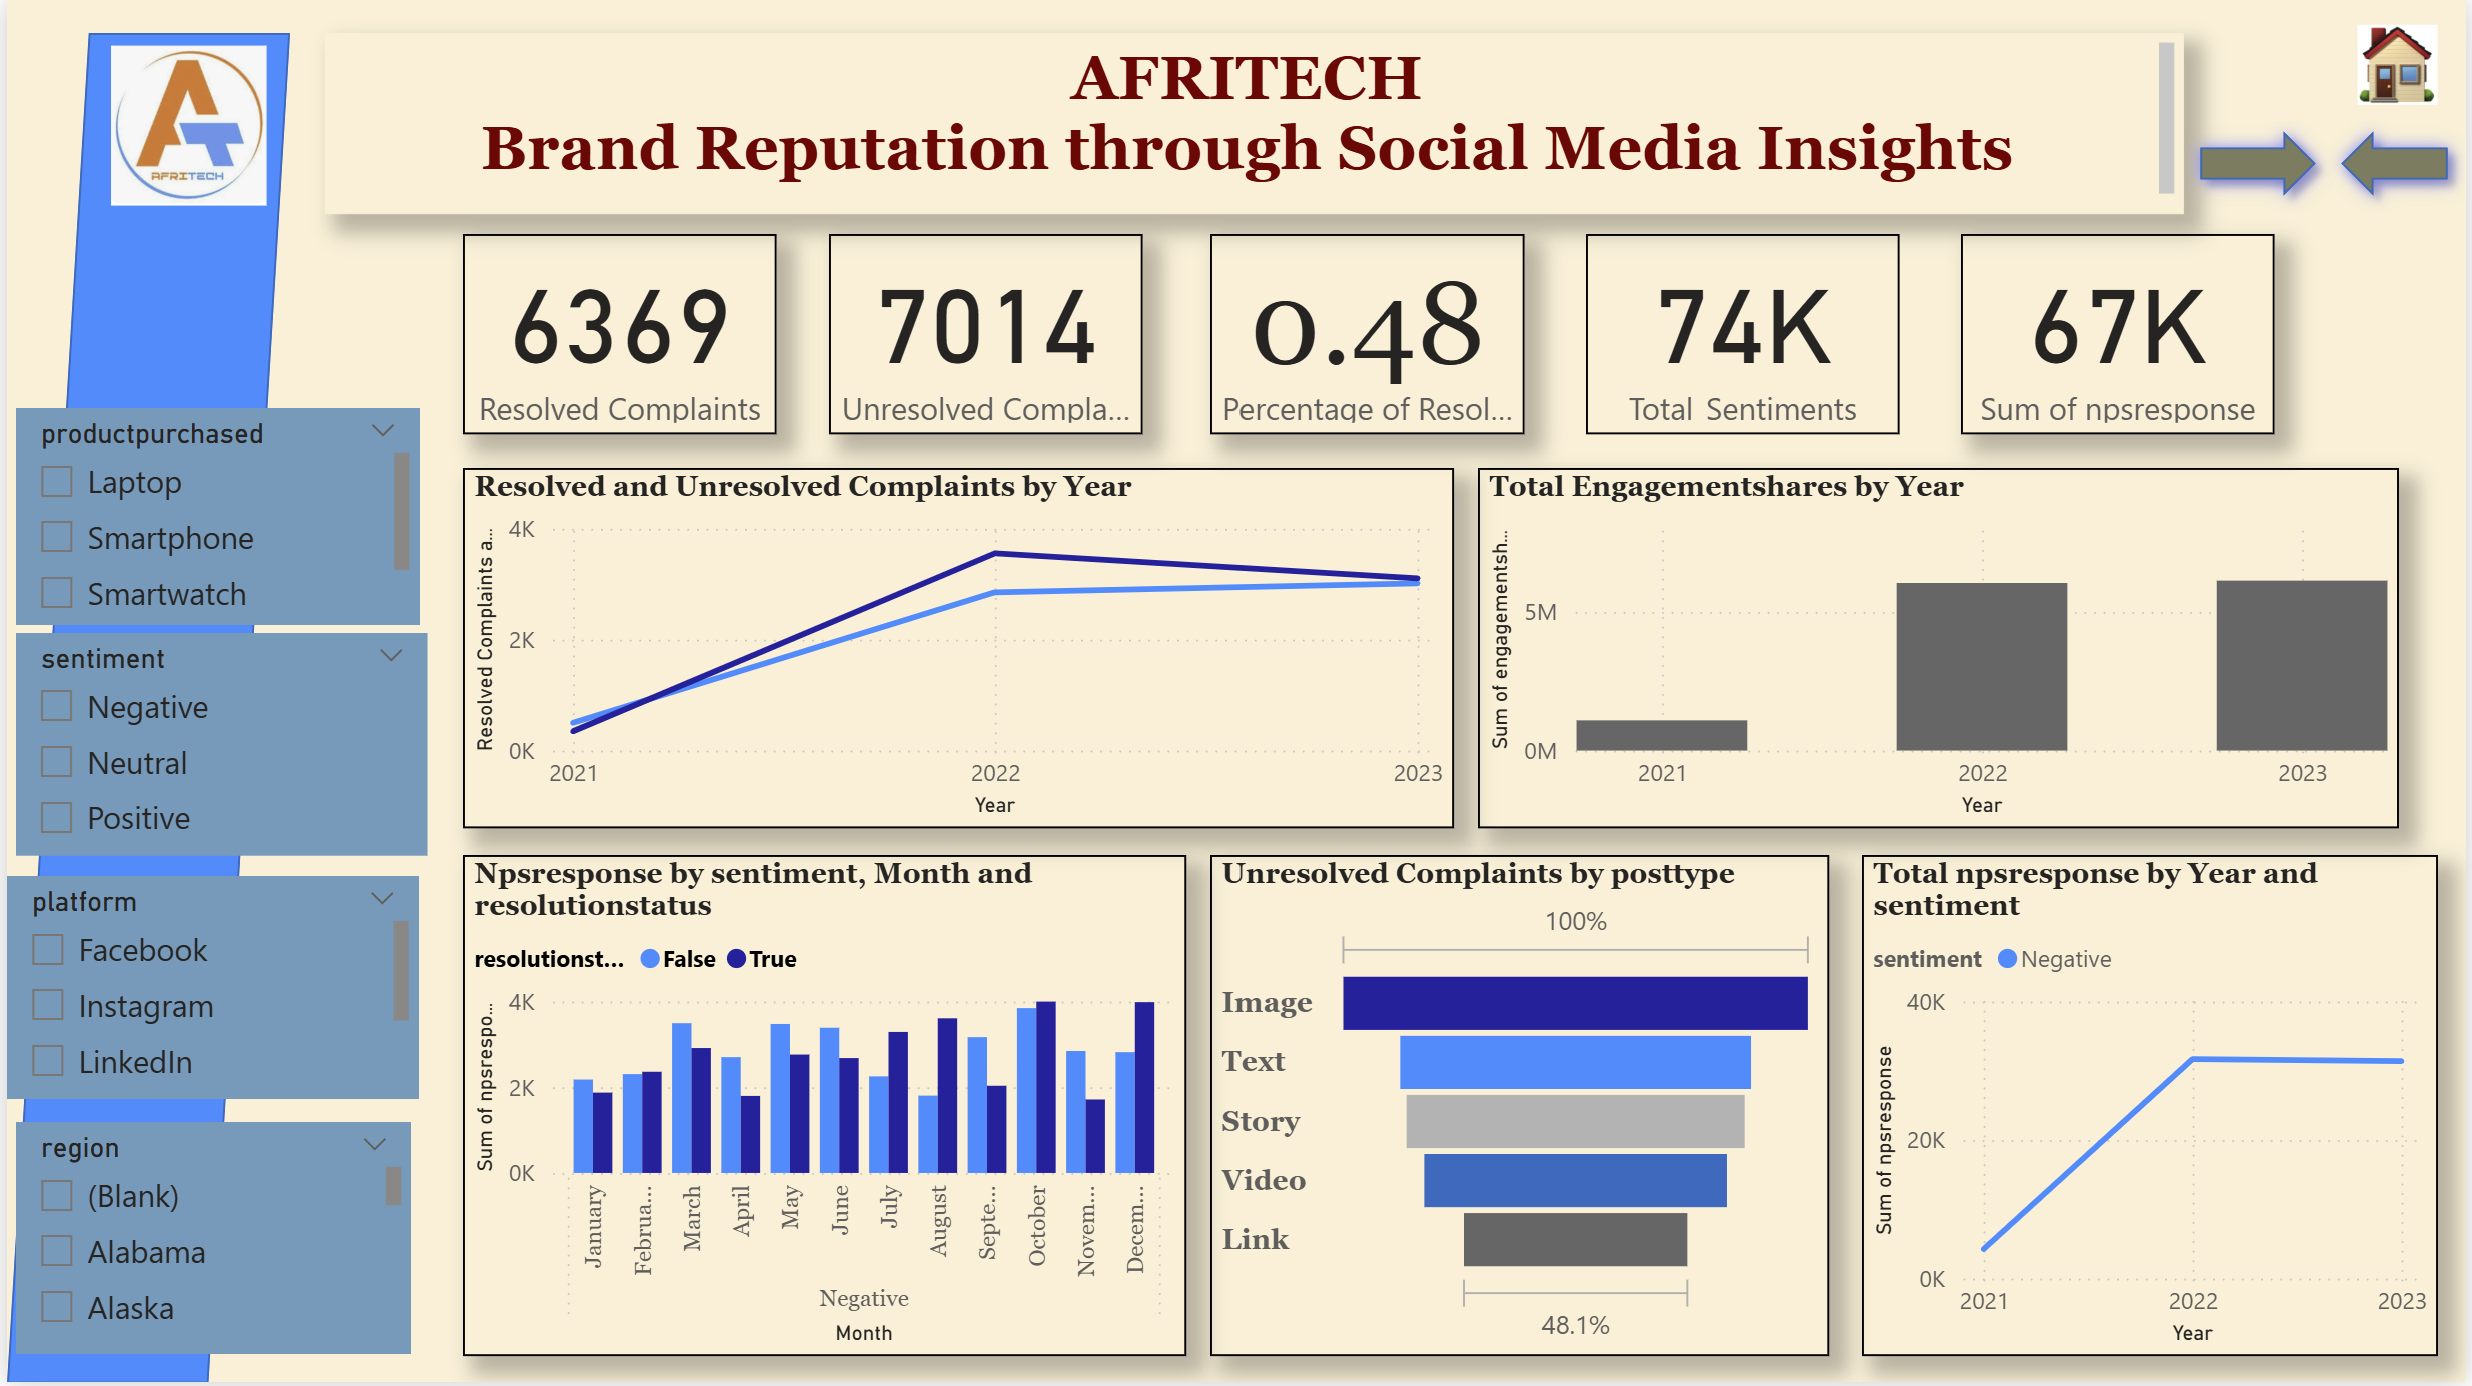

This screenshot's page, from the dashboard's own definition file:
{"tool":"powerbi","page":{"name":"Crisis","canvas":[1280,720],"ordinal":3},"visuals":[{"type":"shape","box":[0,16.9,147.5,703.4],"z":0,"group":"g1"},{"type":"textbox","box":[166.2,16.9,967.6,94.4],"z":1000},{"type":"group","id":"g1","title":"Group 1","box":[0,16.9,147.5,703.4],"z":2000},{"type":"lineChart","title":"Total npsresponse by Year and sentiment","fields":{"Category":["public crisisresponse.crisiseventtime.Variation.Date Hierarchy.Year","public crisisresponse.crisiseventtime.Variation.Date Hierarchy.Quarter","public crisisresponse.crisiseventtime.Variation.Date Hierarchy.Month","public crisisresponse.crisiseventtime.Variation.Date Hierarchy.Day"],"Series":["public sentiment.sentiment"],"Y":["Sum(public crisisresponse.npsresponse)"]},"box":[965.6,445.3,300,260.9],"z":3000},{"type":"lineChart","title":"Resolved  and Unresolved Complaints by Year","fields":{"Category":["public crisisresponse.crisiseventtime.Variation.Date Hierarchy.Year","public crisisresponse.crisiseventtime.Variation.Date Hierarchy.Quarter","public crisisresponse.crisiseventtime.Variation.Date Hierarchy.Month","public crisisresponse.crisiseventtime.Variation.Date Hierarchy.Day"],"Y":["public crisisresponse.Resolved Complaints","public crisisresponse.Unresolved Complaints"]},"box":[237.5,243.8,515.6,187.5],"z":4000},{"type":"image","box":[42.4,18.6,105.1,93.2],"z":5000,"group":"g1"},{"type":"clusteredColumnChart","title":"Npsresponse by sentiment, Month and resolutionstatus","fields":{"Category":["public crisisresponse.sentiment","public crisisresponse.crisiseventtime.Variation.Date Hierarchy.Month"],"Series":["public crisisresponse.resolutionstatus"],"Y":["Sum(public crisisresponse.npsresponse)"]},"box":[237.5,445.3,376.6,260.9],"z":5000},{"type":"slicer","fields":{"Values":["public products.productpurchased"]},"box":[4.3,213,210.1,113],"z":8000,"group":"g2"},{"type":"clusteredColumnChart","title":"Total Engagementshares by Year","fields":{"Category":["public crisisresponse.crisiseventtime.Variation.Date Hierarchy.Year","public crisisresponse.crisiseventtime.Variation.Date Hierarchy.Quarter","public crisisresponse.crisiseventtime.Variation.Date Hierarchy.Month","public crisisresponse.crisiseventtime.Variation.Date Hierarchy.Day","public customers.income"],"Y":["Sum(public socialmedia.engagementshares)"]},"box":[765.6,243.8,479.7,187.5],"z":8000},{"type":"group","id":"g2","title":"Group 2","box":[0,213,218.8,492.8],"z":9000},{"type":"slicer","fields":{"Values":["public customers.region"]},"box":[4.3,585.5,205.8,120.3],"z":9000,"group":"g2"},{"type":"card","fields":{"Values":["public crisisresponse.Resolved Complaints"]},"box":[218.8,121.9,164.1,103.1],"z":10000},{"type":"slicer","fields":{"Values":["public platform.platform"]},"box":[0,456.5,214.5,115.9],"z":10000,"group":"g2"},{"type":"card","fields":{"Values":["public crisisresponse.Percentage of Resolved Complaints"]},"box":[581.2,121.9,206.2,103.1],"z":11000},{"type":"slicer","fields":{"Values":["public sentiment.sentiment"]},"box":[4.3,330.4,214.5,115.9],"z":11000,"group":"g2"},{"type":"card","fields":{"Values":["public sentiment.Total_Sentiments"]},"box":[803.1,121.9,162.5,103.1],"z":12000},{"type":"card","fields":{"Values":["Sum(public crisisresponse.npsresponse)"]},"box":[985.9,121.9,162.5,103.1],"z":13000},{"type":"card","fields":{"Values":["public crisisresponse.Unresolved Complaints"]},"box":[396.9,121.9,164.1,103.1],"z":14000},{"type":"shape","box":[1132.8,59.4,78.1,51.6],"z":14001},{"type":"shape","box":[1206.2,59.4,73.4,51.6],"z":14002},{"type":"funnel","fields":{"Category":["public crisisresponse.posttype"],"Y":["public crisisresponse.Unresolved Complaints"]},"box":[626.6,445.3,321.9,260.9],"z":14003},{"type":"image","box":[1218.8,1.6,51.6,64.1],"z":14004}]}

Visuals, with their boxes in screenshot pixels (x1, y1, x2, y2), scaled from the page's 1280x720 canvas onto the 2472x1386 screenshot:
shape: 0 33 285 1385
textbox: 321 33 2190 214
"Group 1" group: 0 33 285 1385
"Total npsresponse by Year and sentiment" lineChart: 1865 857 2444 1359
"Resolved  and Unresolved Complaints by Year" lineChart: 459 469 1454 830
image: 82 36 285 215
"Npsresponse by sentiment, Month and resolutionstatus" clusteredColumnChart: 459 857 1186 1359
slicer - public products.productpurchased: 8 410 414 628
"Total Engagementshares by Year" clusteredColumnChart: 1479 469 2405 830
"Group 2" group: 0 410 423 1359
slicer - public customers.region: 8 1127 406 1359
card - public crisisresponse.Resolved Complaints: 423 235 739 433
slicer - public platform.platform: 0 879 414 1102
card - public crisisresponse.Percentage of Resolved Complaints: 1122 235 1521 433
slicer - public sentiment.sentiment: 8 636 423 859
card - public sentiment.Total_Sentiments: 1551 235 1865 433
card - Sum(public crisisresponse.npsresponse): 1904 235 2218 433
card - public crisisresponse.Unresolved Complaints: 767 235 1083 433
shape: 2188 114 2339 214
shape: 2329 114 2471 214
funnel - public crisisresponse.posttype x public crisisresponse.Unresolved Complaints: 1210 857 1832 1359
image: 2354 3 2453 126
